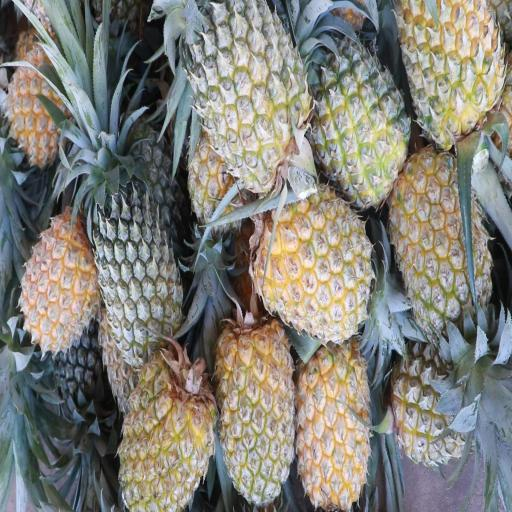------------------------------: (195, 0, 308, 176), (390, 162, 481, 318), (410, 0, 504, 151), (390, 344, 470, 458)
Pineapple - v8 v1: (121, 343, 218, 511), (261, 185, 367, 333), (218, 320, 292, 506), (323, 44, 404, 196), (14, 208, 96, 352), (296, 343, 367, 498), (183, 85, 247, 227), (0, 40, 71, 160)
